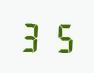five: (46, 19, 72, 53)
three: (19, 19, 45, 52)
